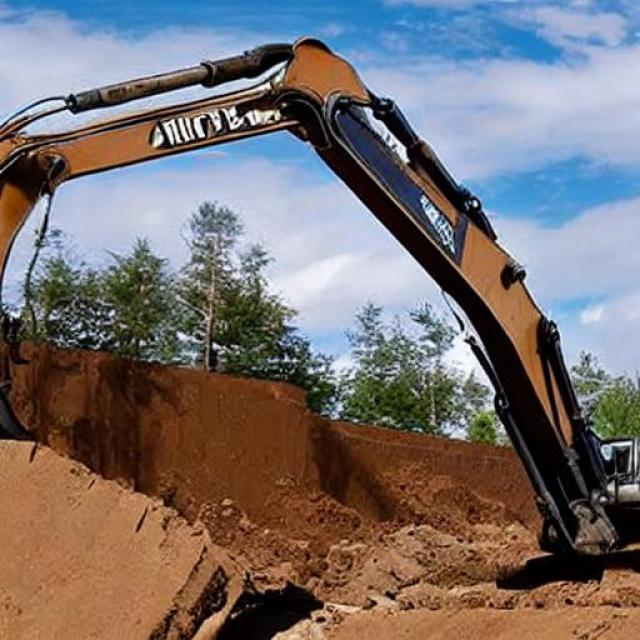excavator: (221, 55, 420, 230)
